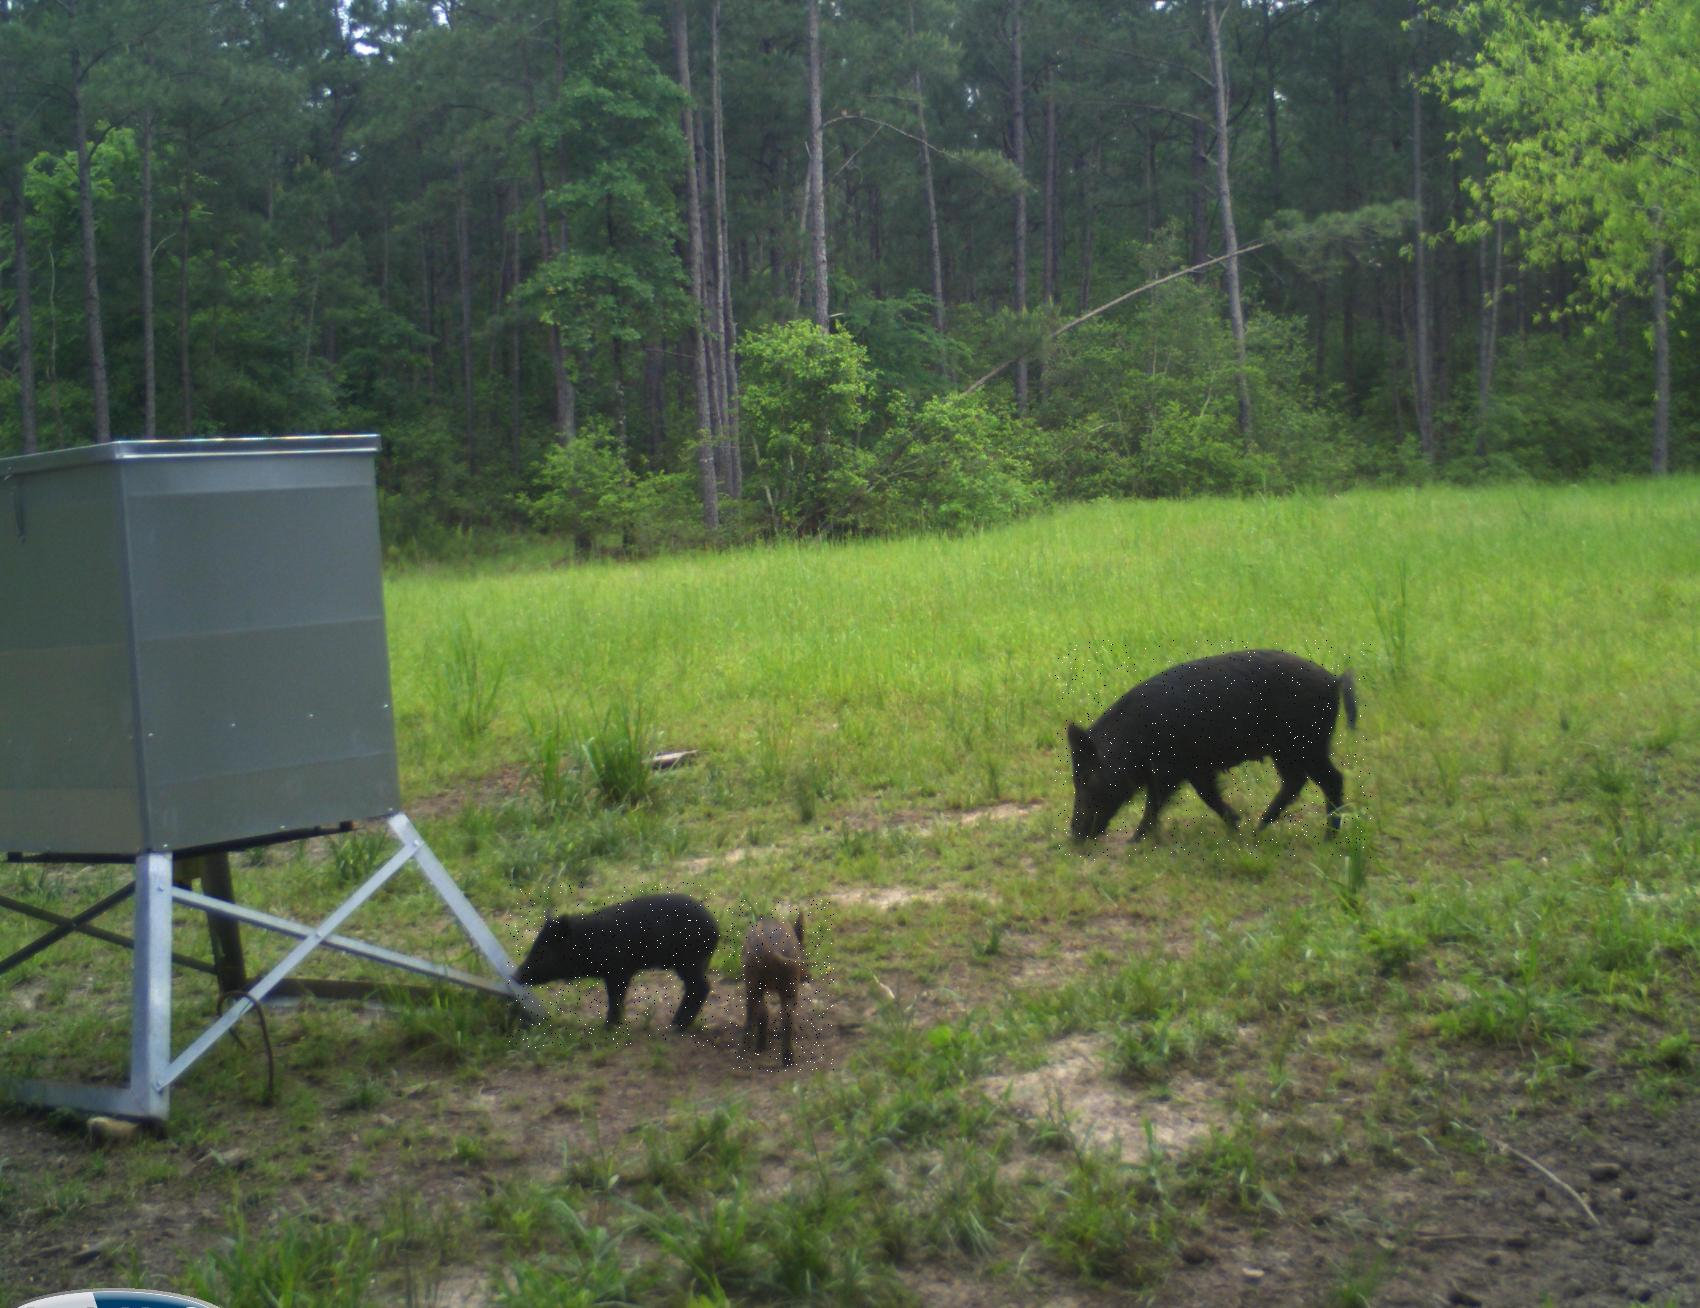Hog: (1055, 640, 1372, 860), (506, 882, 720, 1048), (724, 900, 834, 1072)
